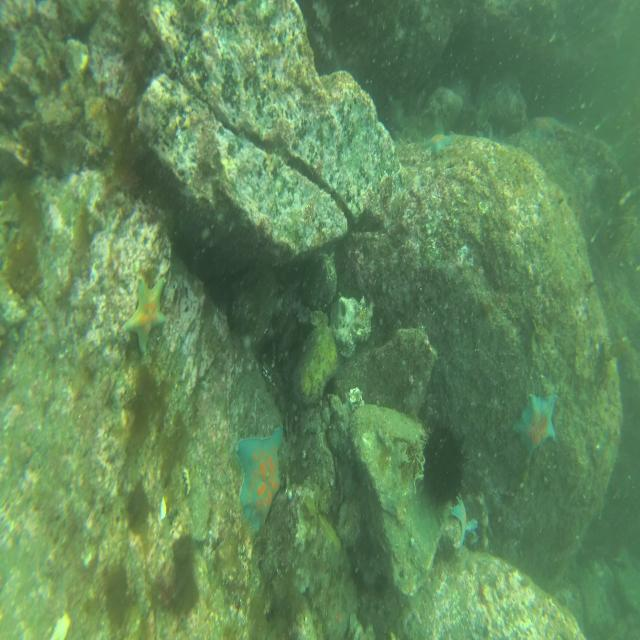echinus: (422, 423, 468, 507)
starfish: (234, 424, 288, 532), (122, 279, 168, 356), (514, 390, 560, 460), (450, 494, 477, 550), (528, 110, 559, 142), (424, 130, 452, 160)
